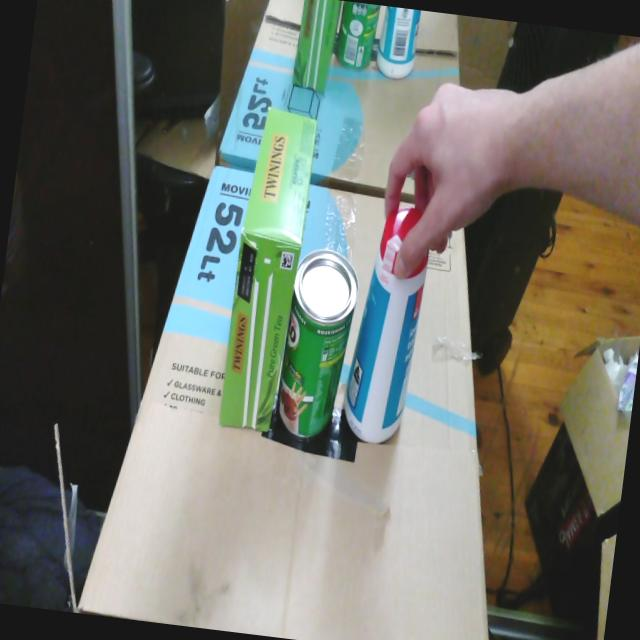nestle_milo_tin: (275, 249, 358, 441)
twinings_greentea_box: (219, 108, 317, 431)
woolworths_salt_bottle: (343, 207, 429, 443)
